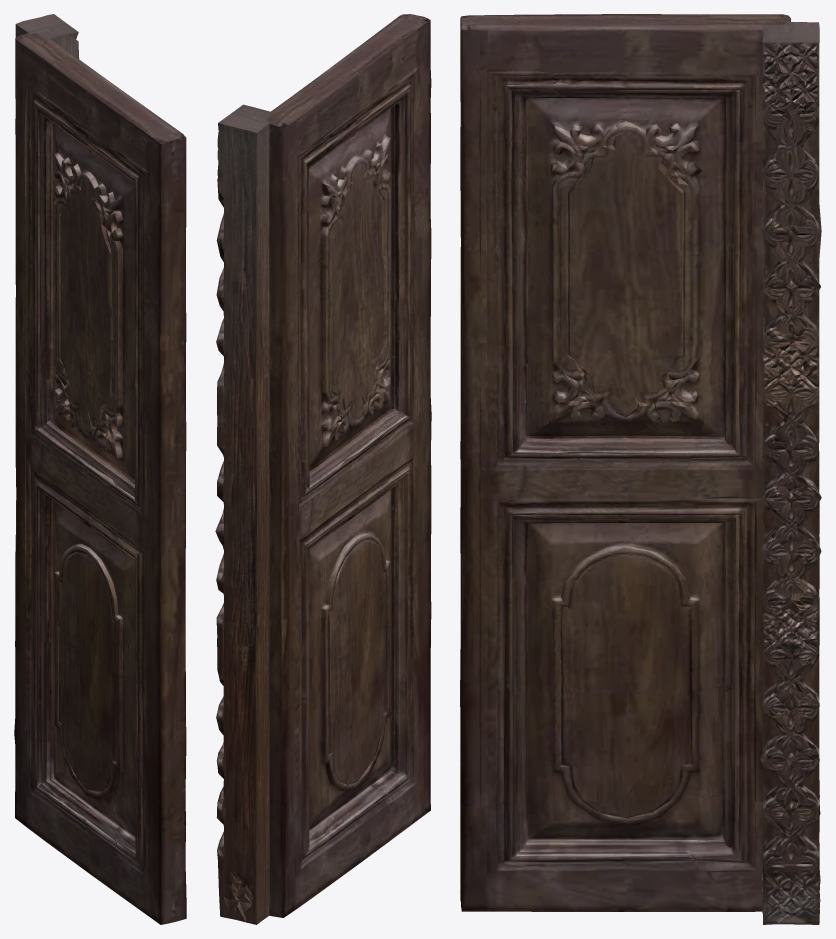
Rendered from SM_Men_A218C_VTWElementLookDev_15c86b.glb.
The picture shows the model from 3 angles, left to right: view 1: azimuth 30°, elevation 25°; view 2: azimuth 150°, elevation 25°; view 3: azimuth 270°, elevation 25°; orthographic projection. The views are drawn at different scales.
Parts seen in each view (by area): view 1: SM_Men_A218C_VTWElementLookDev; view 2: SM_Men_A218C_VTWElementLookDev; view 3: SM_Men_A218C_VTWElementLookDev.
Part boxes in pixels (x1=…): SM_Men_A218C_VTWElementLookDev: x1=14, y1=14, x2=186, y2=924; SM_Men_A218C_VTWElementLookDev: x1=215, y1=14, x2=431, y2=924; SM_Men_A218C_VTWElementLookDev: x1=460, y1=14, x2=821, y2=924.
Bounding box in the file's own units: 0.169 × 2.19 × 0.8136.
Materials: 2 (2 with a texture image).
